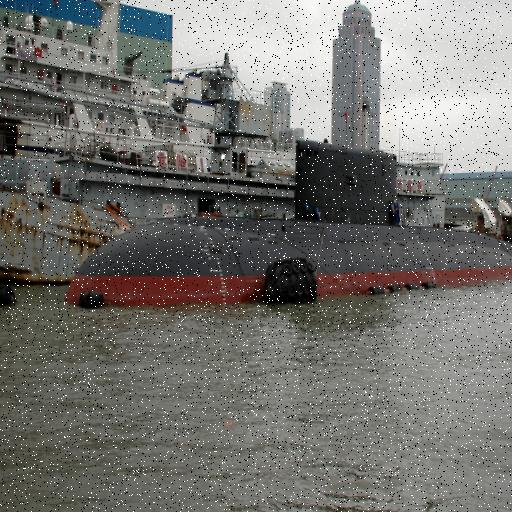submarine: (64, 144, 512, 304)
